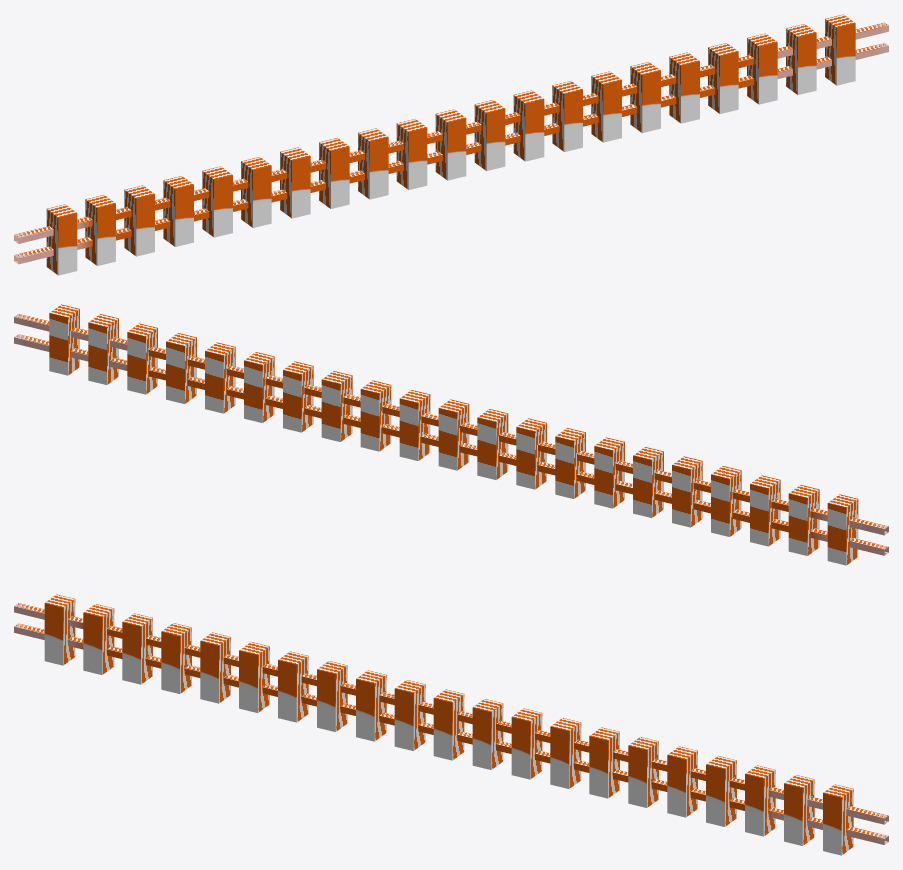
Rendered from RoadDivider.fbx.
3 renders of one model, top to bottom at view 1: azimuth 30°, elevation 25°; view 2: azimuth 150°, elevation 25°; view 3: azimuth 330°, elevation 25°, orthographic.
Visible parts, largest first — view 1: fence_short_mesh; view 2: fence_short_mesh; view 3: fence_short_mesh.
Boxes of the visible parts, x1,y1,x2,y2 form: fence_short_mesh: (14, 14, 888, 275); fence_short_mesh: (14, 304, 888, 565); fence_short_mesh: (14, 594, 888, 855).
Size of the model in its own units: 1678 by 107 by 39.99.
